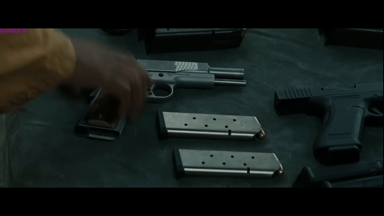firearm: (68, 56, 248, 141), (272, 80, 382, 163), (153, 110, 285, 178), (288, 160, 383, 188), (143, 28, 248, 53)
